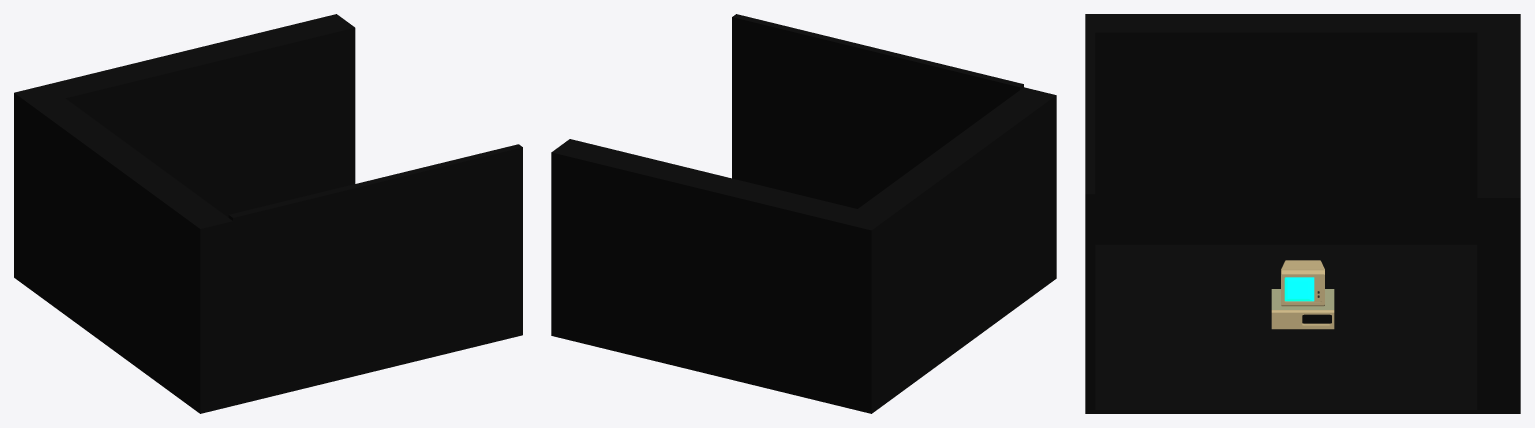
3 renders of one model, left to right at view 1: azimuth 30°, elevation 25°; view 2: azimuth 150°, elevation 25°; view 3: azimuth 270°, elevation 25°, orthographic. The views are drawn at different scales.
Parts seen in each view (by area): view 1: Cube.002; view 2: Cube.002; view 3: Cube.002, Cube.001.
Part boxes in pixels (x1,y1,x2,y2): Cube.002: [14, 14, 522, 413]; Cube.002: [551, 14, 1056, 413]; Cube.002: [1085, 14, 1520, 413]; Cube.001: [1271, 260, 1334, 329].
Bounding box in the file's own units: 1966 × 1095 × 1966.
